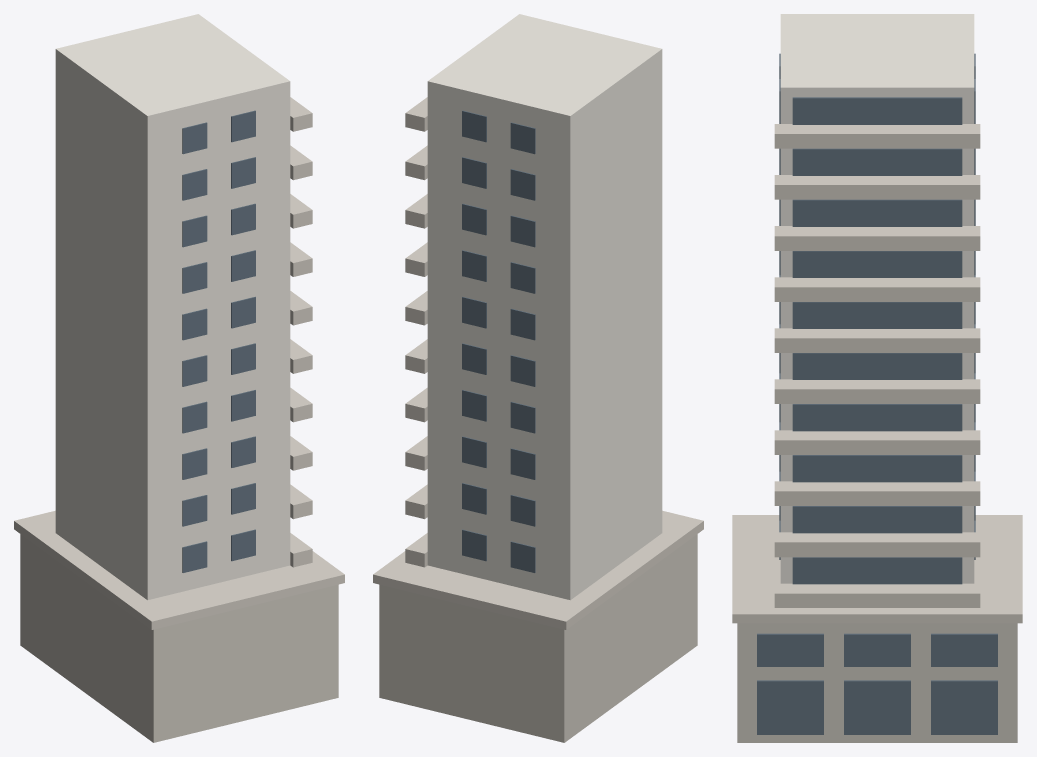
File: rambla_building_17.glb
The picture shows the model from 3 angles, left to right: view 1: azimuth 30°, elevation 25°; view 2: azimuth 150°, elevation 25°; view 3: azimuth 270°, elevation 25°; orthographic projection. The views are drawn at different scales.
Visible parts, largest first — view 1: RamblaBuilding_17; view 2: RamblaBuilding_17; view 3: RamblaBuilding_17.
Part boxes in pixels (x1,y1,x2,y2): RamblaBuilding_17: [14, 14, 344, 742]; RamblaBuilding_17: [373, 14, 703, 742]; RamblaBuilding_17: [732, 14, 1022, 742].
Bounding box in the file's own units: 11.9 × 35.8 × 14.7.
